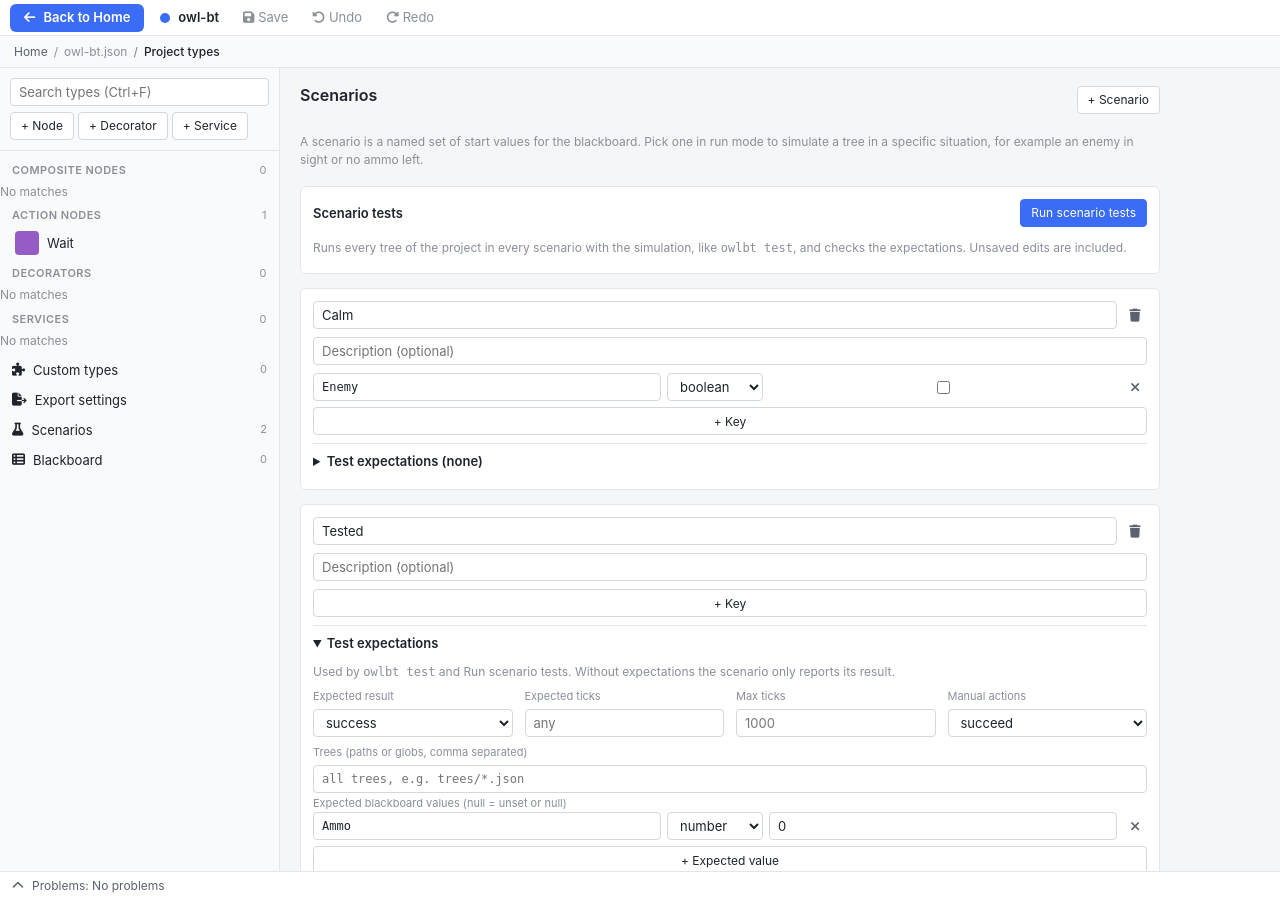
ScenariosView test expectations › shows configuration errors
Expected: the element named "Project types" is shown, [0,68,280,871]
Click the button "Run scenario tests": (1084, 213) [1020,199,1147,227]
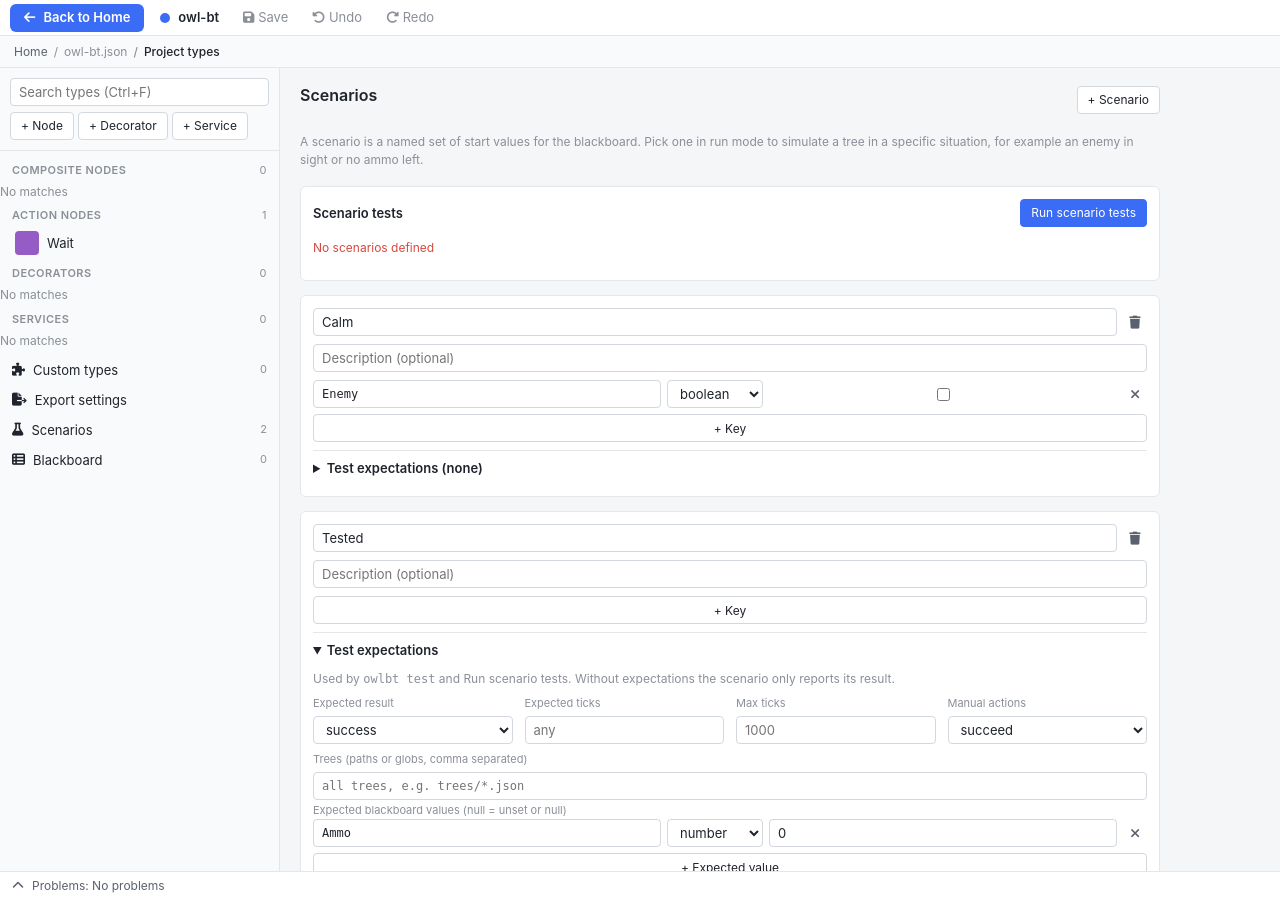
Result: the message reads "No scenarios defined" at [313,240,434,255]
